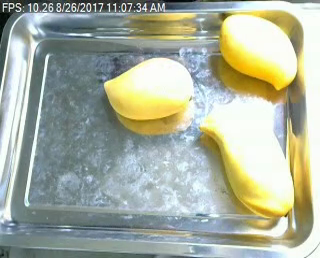Mango: (197, 102, 300, 221), (215, 12, 301, 91), (101, 56, 192, 120)
